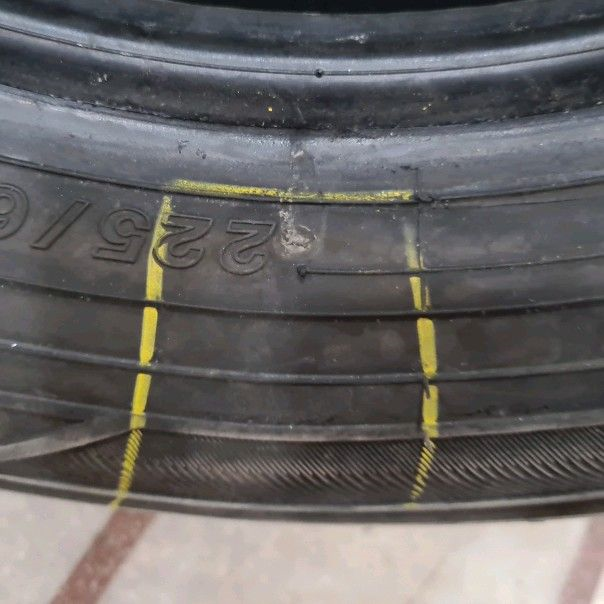CBU: (165, 245, 398, 449)
